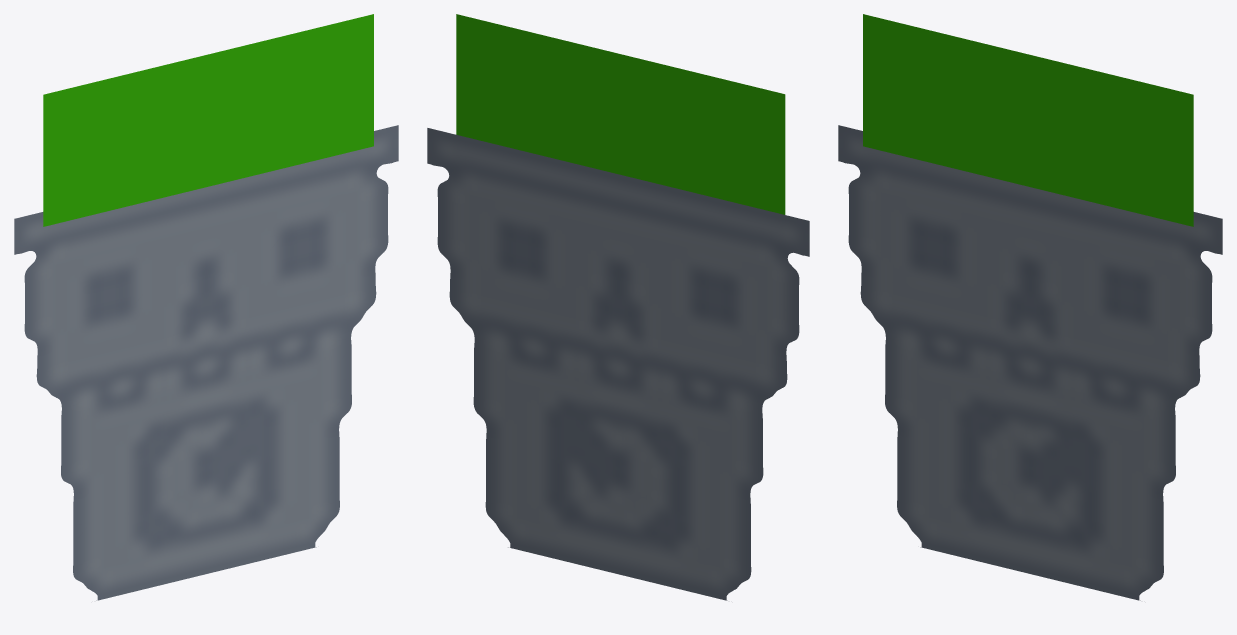
The model's file is &Button.fbx.
3 renders of one model, left to right at view 1: azimuth 30°, elevation 25°; view 2: azimuth 150°, elevation 25°; view 3: azimuth 330°, elevation 25°, orthographic.
Parts seen in each view (by area): view 1: pPlane3; view 2: pPlane3; view 3: pPlane3.
Boxes of the visible parts, x1,y1,x2,y2 form: pPlane3: (14, 14, 398, 600); pPlane3: (427, 14, 809, 600); pPlane3: (838, 14, 1222, 600).
Bounding box in the file's own units: 1 × 1.3 × 0.01.
2 materials, 1 textured.
